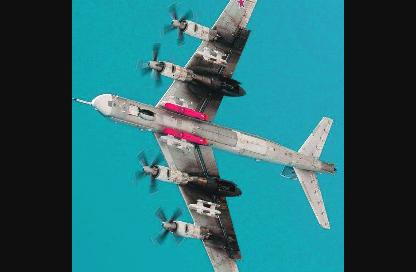Su57: (72, 0, 340, 269)
